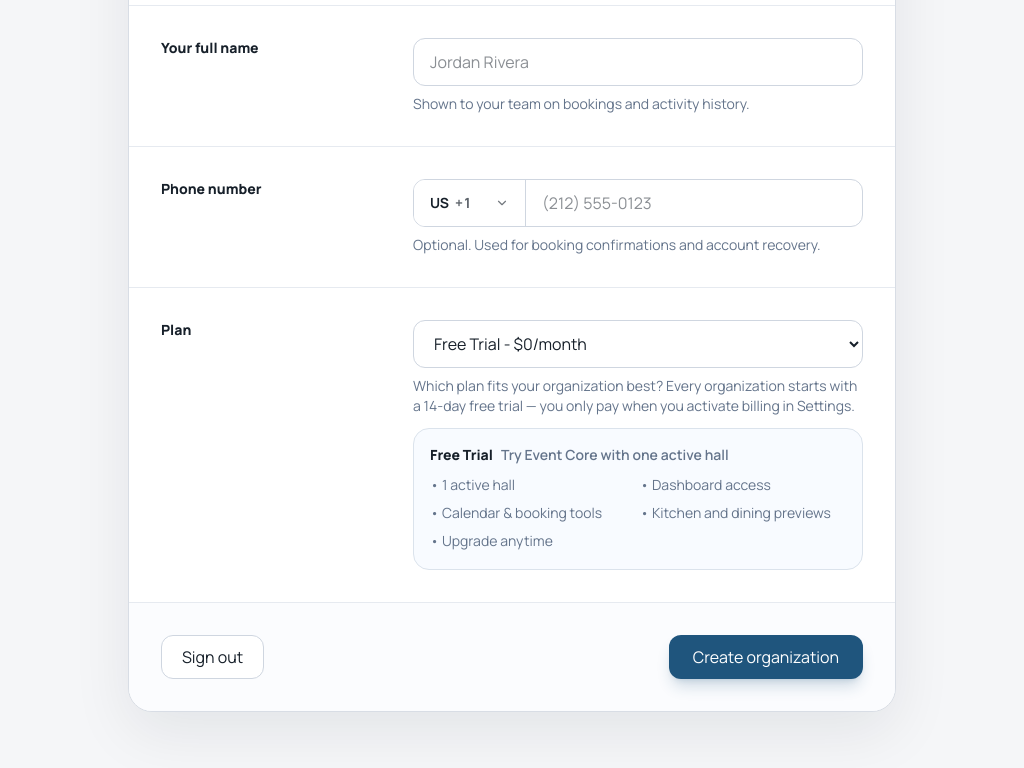
Scenario: CreateOrganizationPage › blocks submission until the required names are filled in
(page scrolled)
Click the button "Create organization".
click(766, 657)  # box [669,635,863,679]
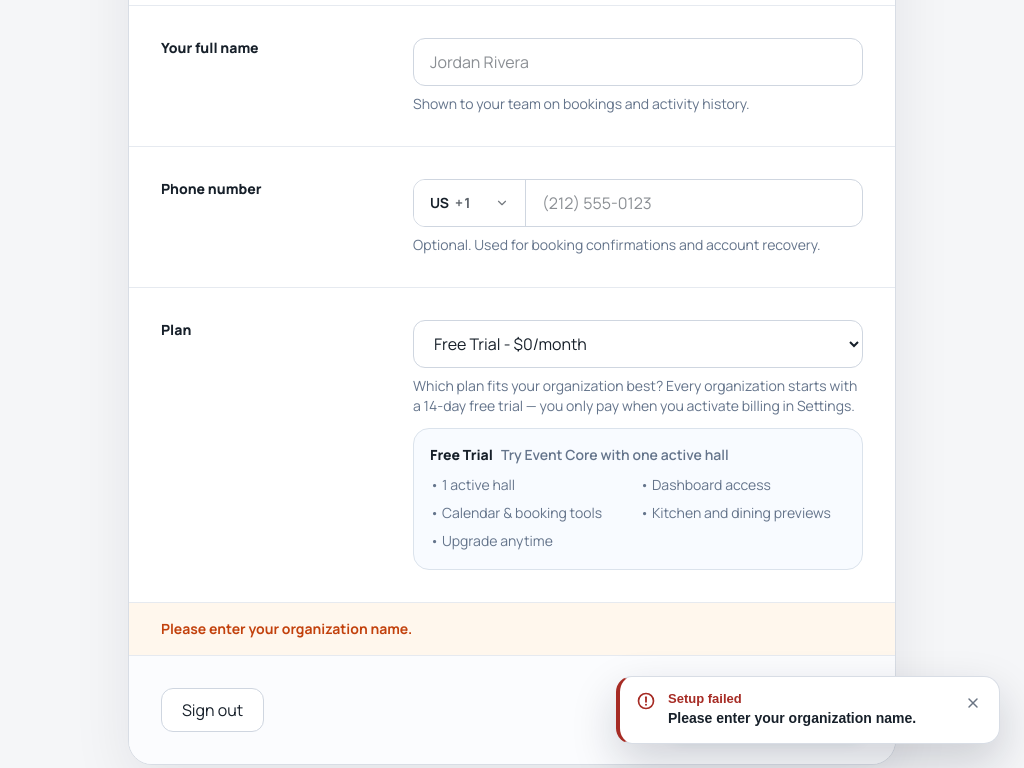
Result: the text "Please enter your organization name." is shown 2 times at [129,602,895,655]; [668,709,949,729]
